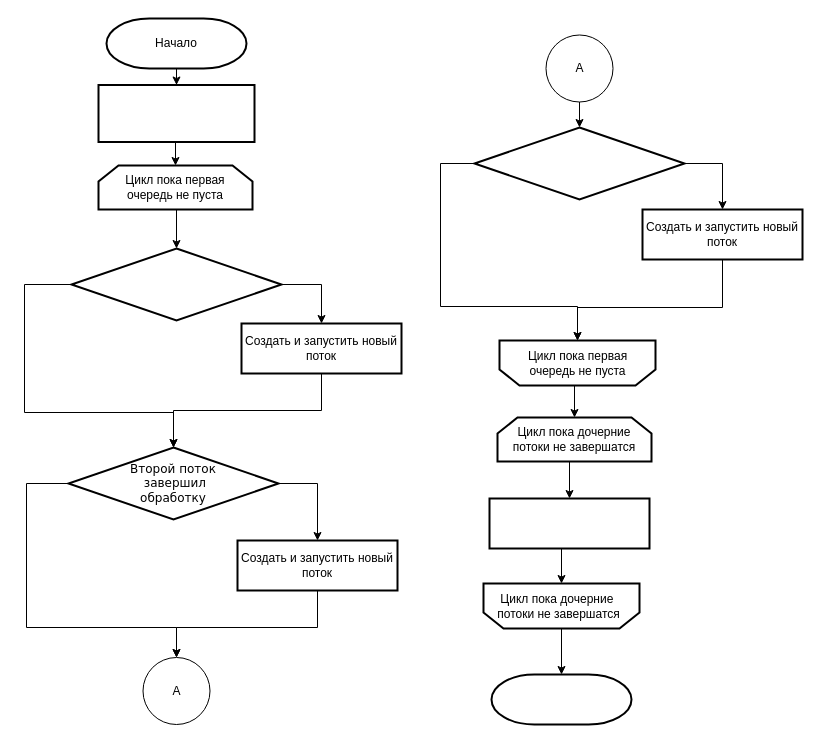
Image size: 821x742. Some labels were removed from this diagram. The shapes that lost their labels are listed below. From the top down, each one's box as (x1, y1, x2, y2) in pixels, then its label:
(97, 84, 255, 142): Создать и запустить 3 потока
(473, 126, 685, 200): Третий поток завершил обработку
(70, 247, 282, 321): Первый поток завершил обработку
(488, 497, 650, 549): Блокировка главного потока
(490, 673, 632, 725): Конец
